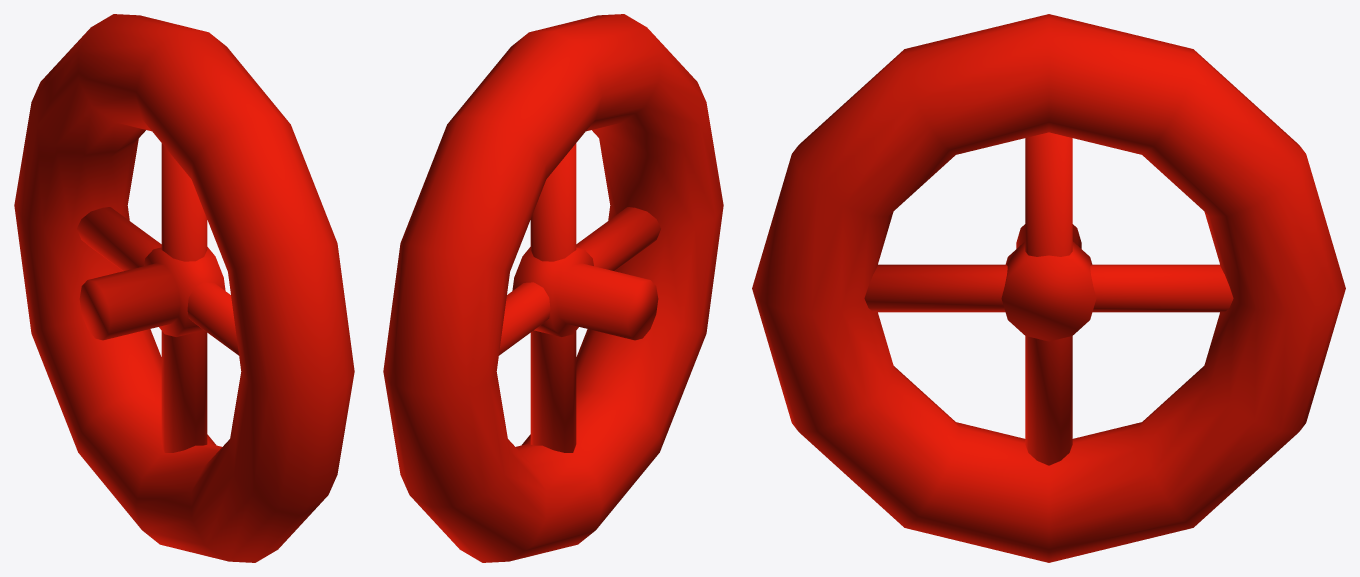
Rendered from Pipevalve.gltf.
The picture shows the model from 3 angles, left to right: view 1: azimuth 30°, elevation 25°; view 2: azimuth 150°, elevation 25°; view 3: azimuth 270°, elevation 25°; orthographic projection. The views are drawn at different scales.
Visible parts, largest first — view 1: Torus; view 2: Torus; view 3: Torus.
Boxes of the visible parts, <box> form: Torus: <box>14,14,354,562</box>; Torus: <box>383,14,723,562</box>; Torus: <box>752,14,1345,562</box>.
Bounding box in the file's own units: 0.1408 × 0.5 × 0.5.
